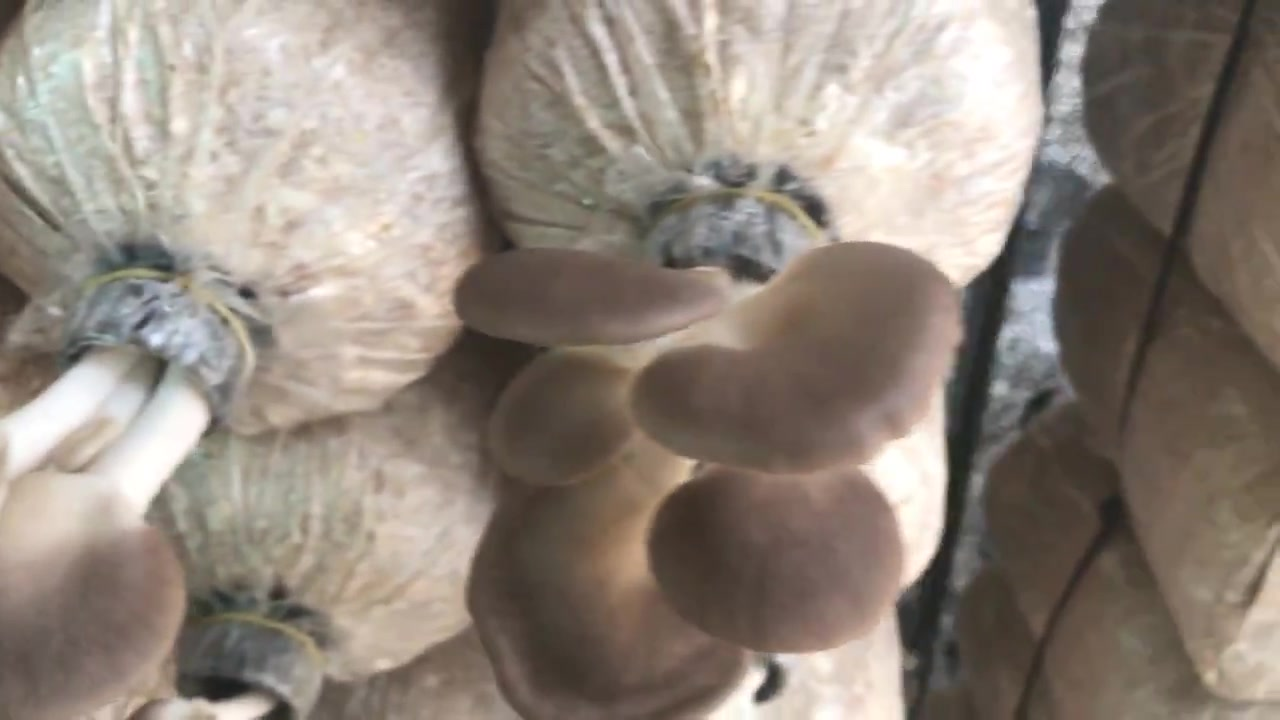nam: (452, 180, 958, 720), (1, 279, 271, 720)
